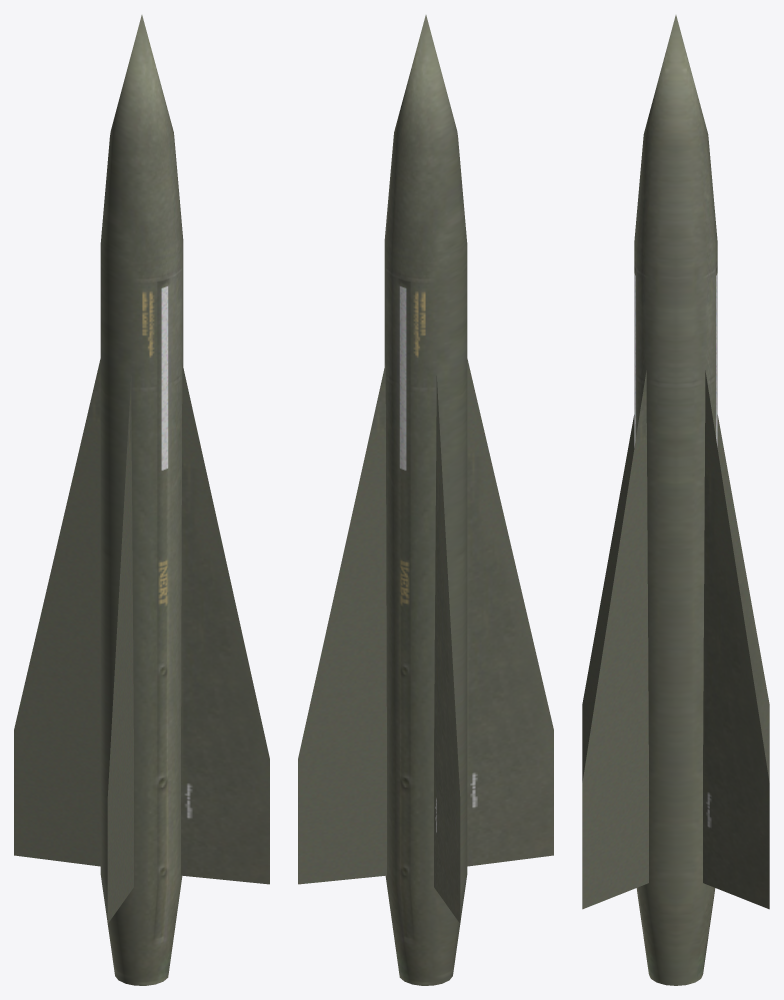
The model's file is IHAWK_Missile.fbx.
3 renders of one model, left to right at view 1: azimuth 30°, elevation 25°; view 2: azimuth 150°, elevation 25°; view 3: azimuth 270°, elevation 25°, orthographic.
Visible parts, largest first — view 1: rocket2; view 2: rocket2; view 3: rocket2.
Boxes of the visible parts, x1,y1,x2,y2 form: rocket2: (14, 15, 269, 985); rocket2: (298, 15, 553, 985); rocket2: (582, 15, 769, 985).
Bounding box in the file's own units: 94.23 × 533 × 94.23.
